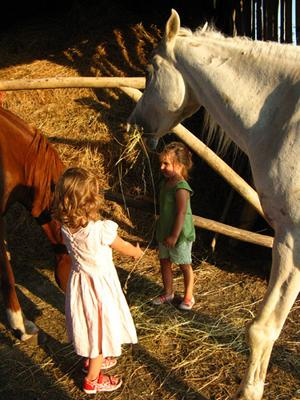person: (60, 162, 142, 395)
